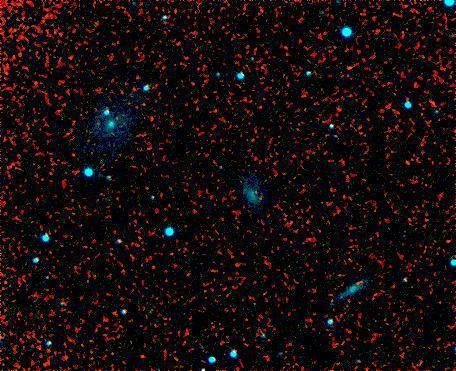star: (335, 52, 365, 82)
